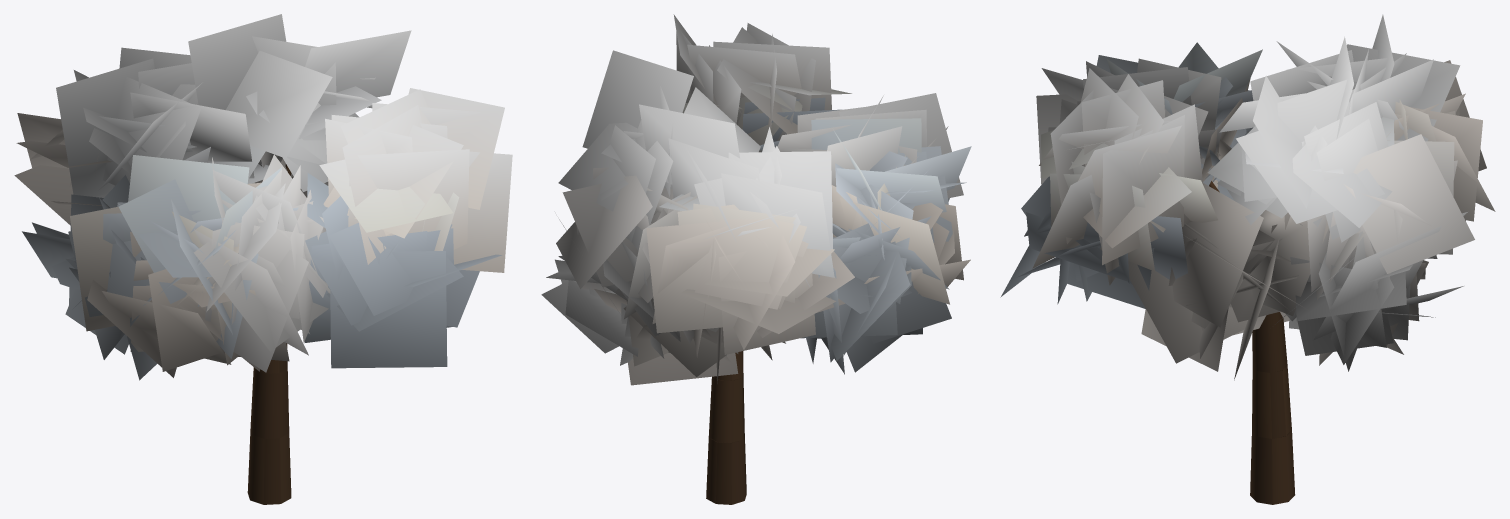
File: broadleaf_2.glb
3 renders of one model, left to right at view 1: azimuth 30°, elevation 25°; view 2: azimuth 150°, elevation 25°; view 3: azimuth 270°, elevation 25°, orthographic. The views are drawn at different scales.
Parts seen in each view (by area): view 1: broadleaf_2; view 2: broadleaf_2; view 3: broadleaf_2.
Part boxes in pixels (left/top/right/bottom): broadleaf_2: left=14, top=14, right=512, bottom=504; broadleaf_2: left=541, top=14, right=971, bottom=504; broadleaf_2: left=1000, top=14, right=1495, bottom=504.
Size of the model in its own units: 5.03 by 5.58 by 5.7.
